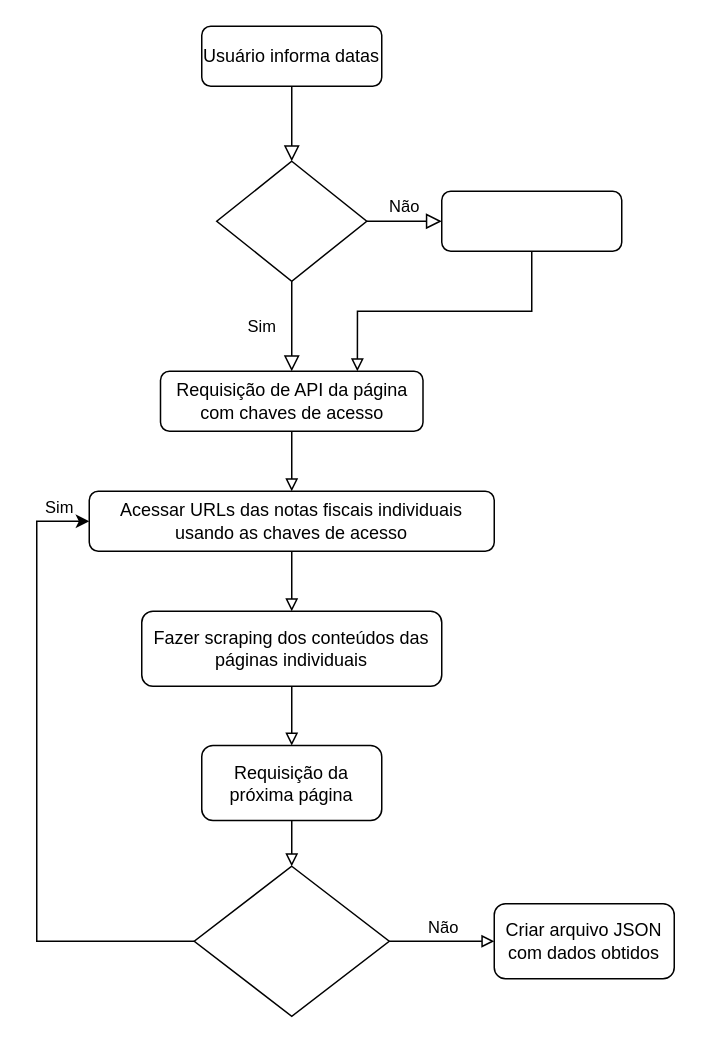
This 701x1043 diagram has some shape labels left out. Each missing label, with the centre of its shape:
Filtrar por UFs: the point at 531,220
Houve retorno de dados?: the point at 291,940
Lista de UFs está vazia?: the point at 291,220
